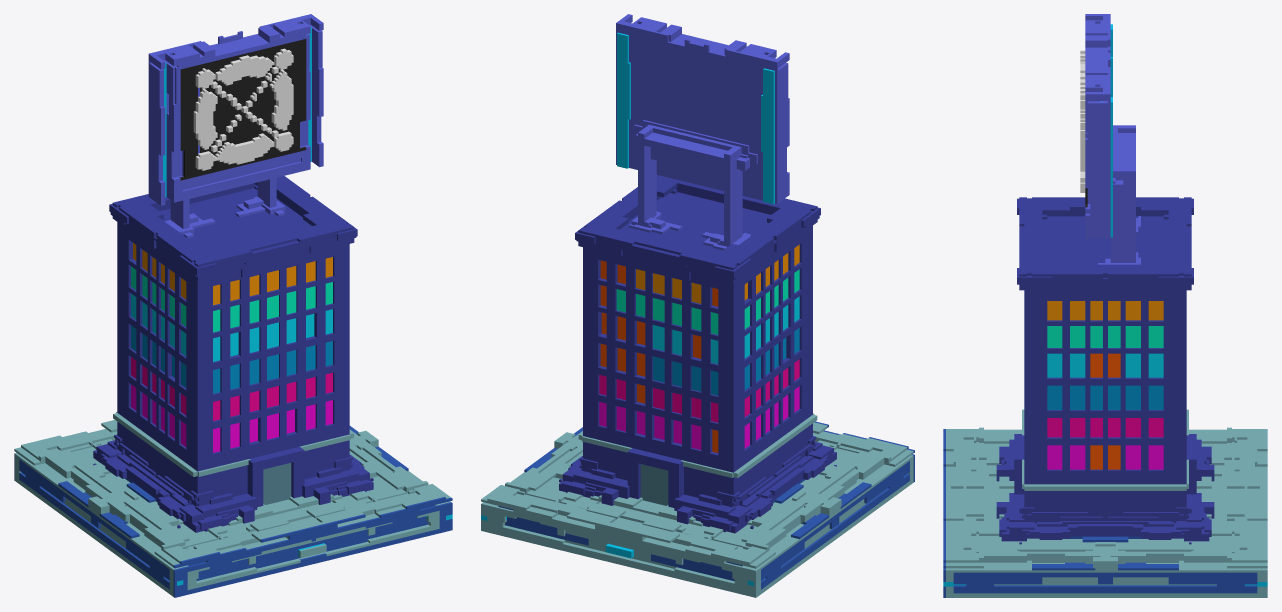
File: HeadQuarter.obj
The picture shows the model from 3 angles, left to right: view 1: azimuth 30°, elevation 25°; view 2: azimuth 150°, elevation 25°; view 3: azimuth 270°, elevation 25°; orthographic projection.
Bounding box in the file's own units: 12.8 × 20.7 × 12.8.
